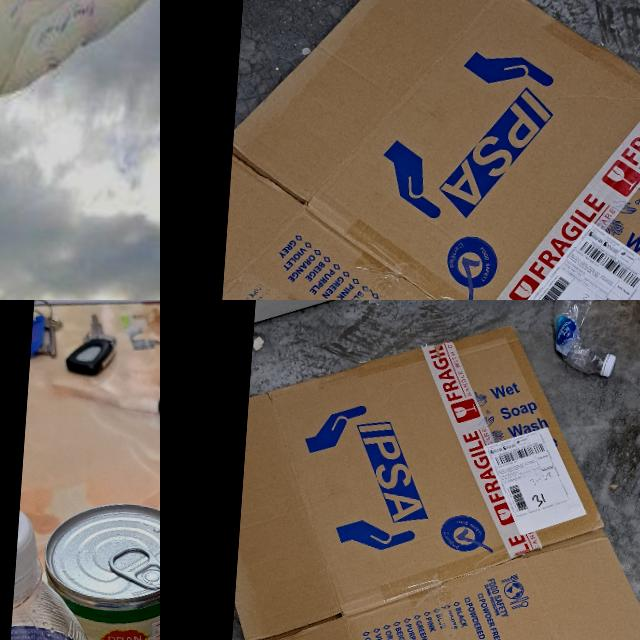aba de lata: (106, 542, 160, 589)
garrafa plástica: (546, 300, 623, 378)
lata: (32, 499, 160, 640)
papelão: (217, 312, 640, 640), (206, 0, 640, 300)
sacola plástica: (0, 0, 160, 127)
tampa plástica: (12, 507, 38, 608), (597, 351, 618, 378)
